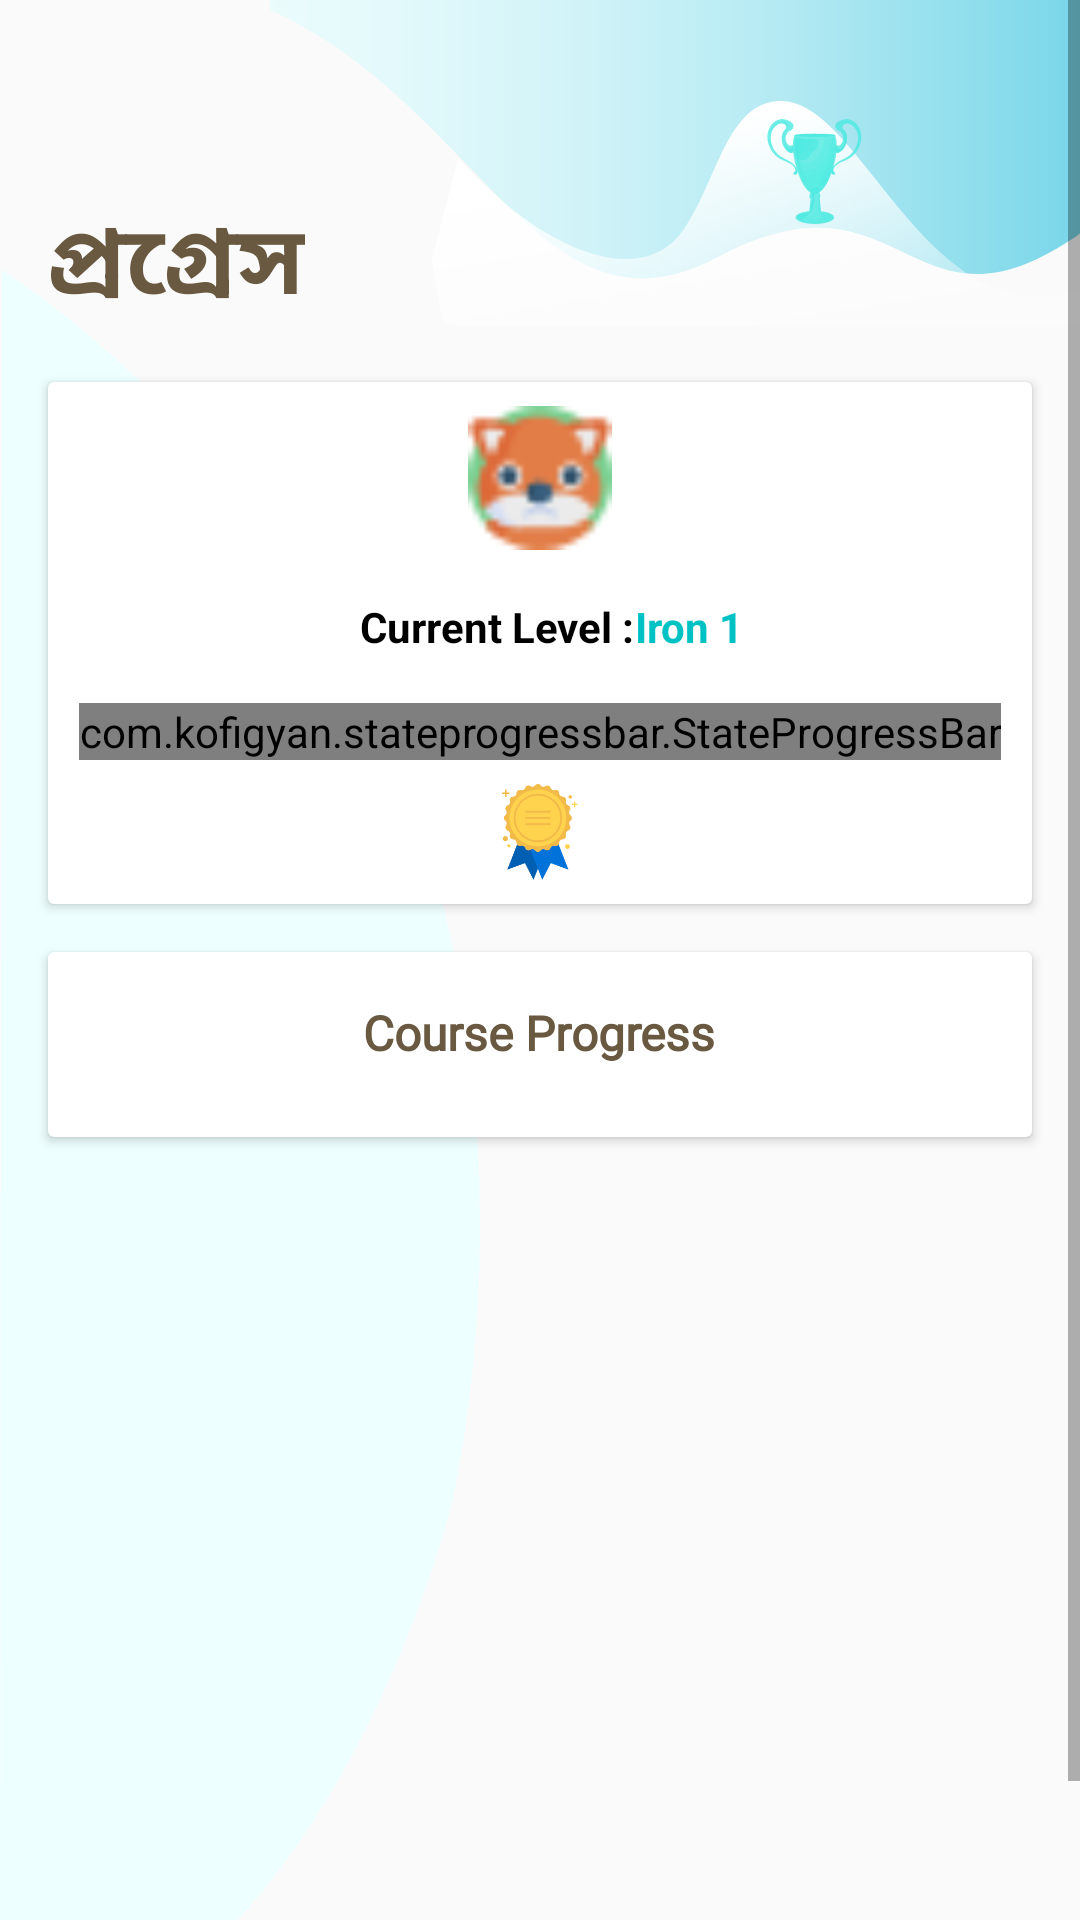

Icon click points for this 1080w x 1920h phone screenshot, format (x=x, y=y):
badge: (x=540, y=832)
